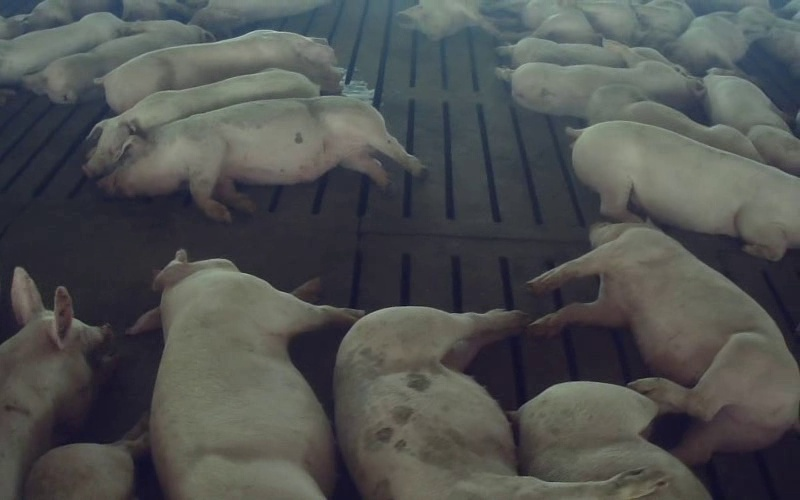pig: (529, 224, 799, 462), (334, 307, 660, 499), (129, 251, 362, 499), (98, 96, 423, 221), (572, 121, 799, 259), (0, 267, 109, 499), (83, 69, 319, 176), (518, 382, 710, 499), (99, 30, 341, 112), (23, 20, 214, 103), (498, 41, 704, 117), (587, 84, 762, 161), (703, 70, 799, 174), (0, 12, 128, 84), (664, 12, 752, 75)
